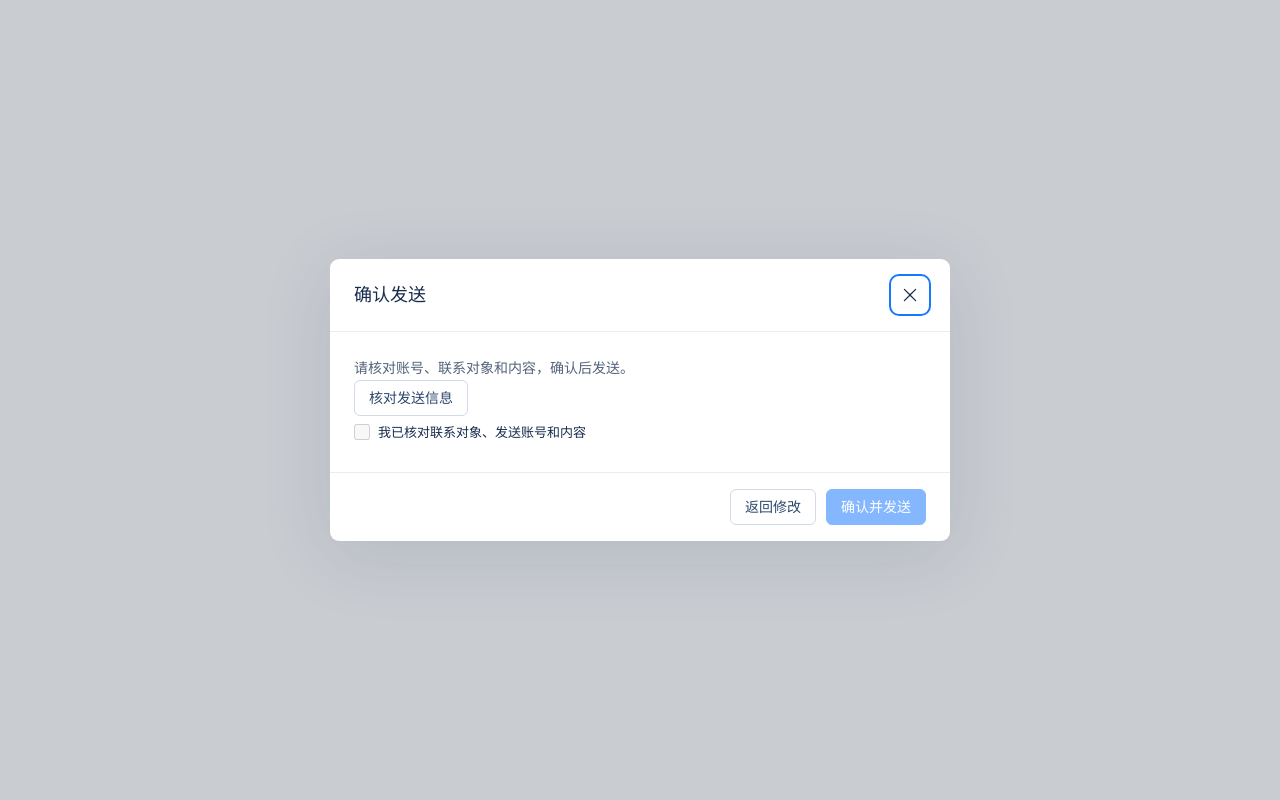
Scenario: blocks CONFIRM when durable storage throw fails
Click the button "核对发送信息" at (411, 398), box [354,380,468,416]
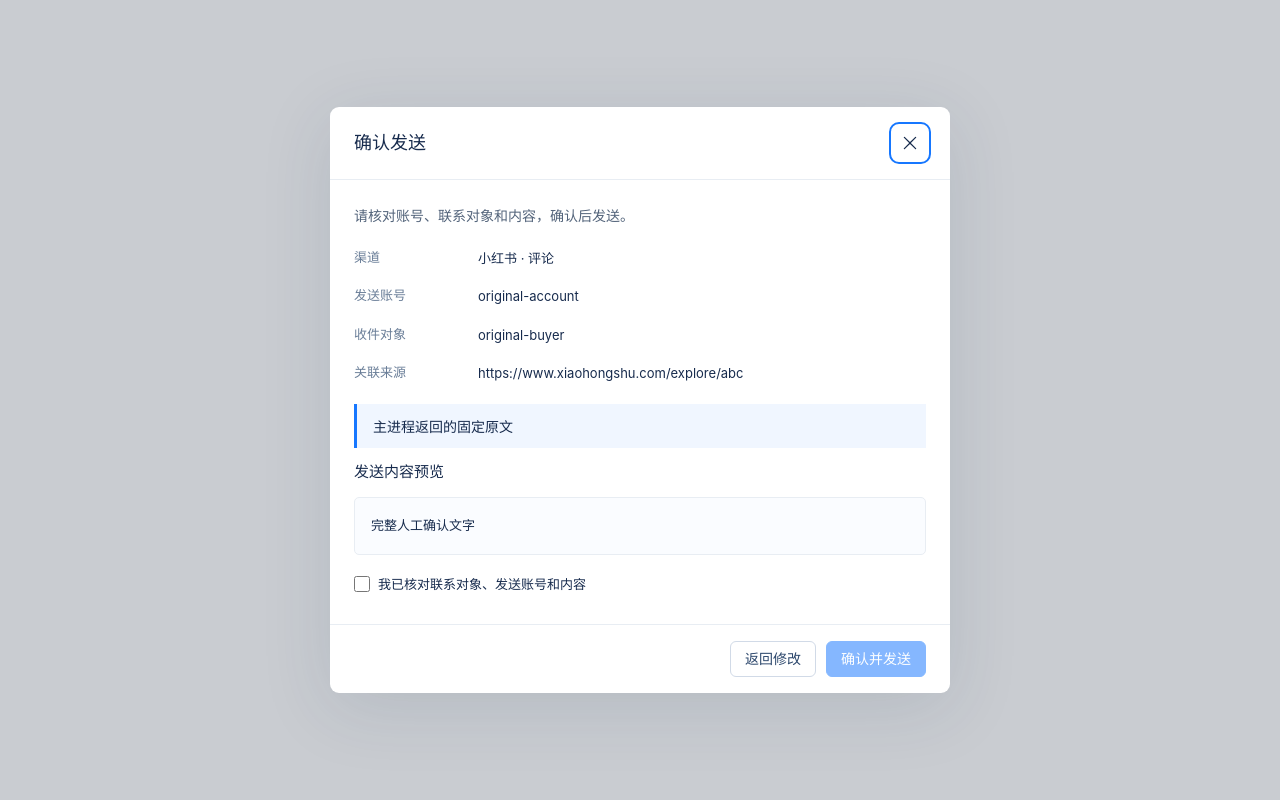
Now the text "主进程返回的固定原文" is shown, box [354,404,926,448]
Click the checkbox labelled "我已核对联系对象、发送账号和内容" at (362, 584), box [354,576,370,592]
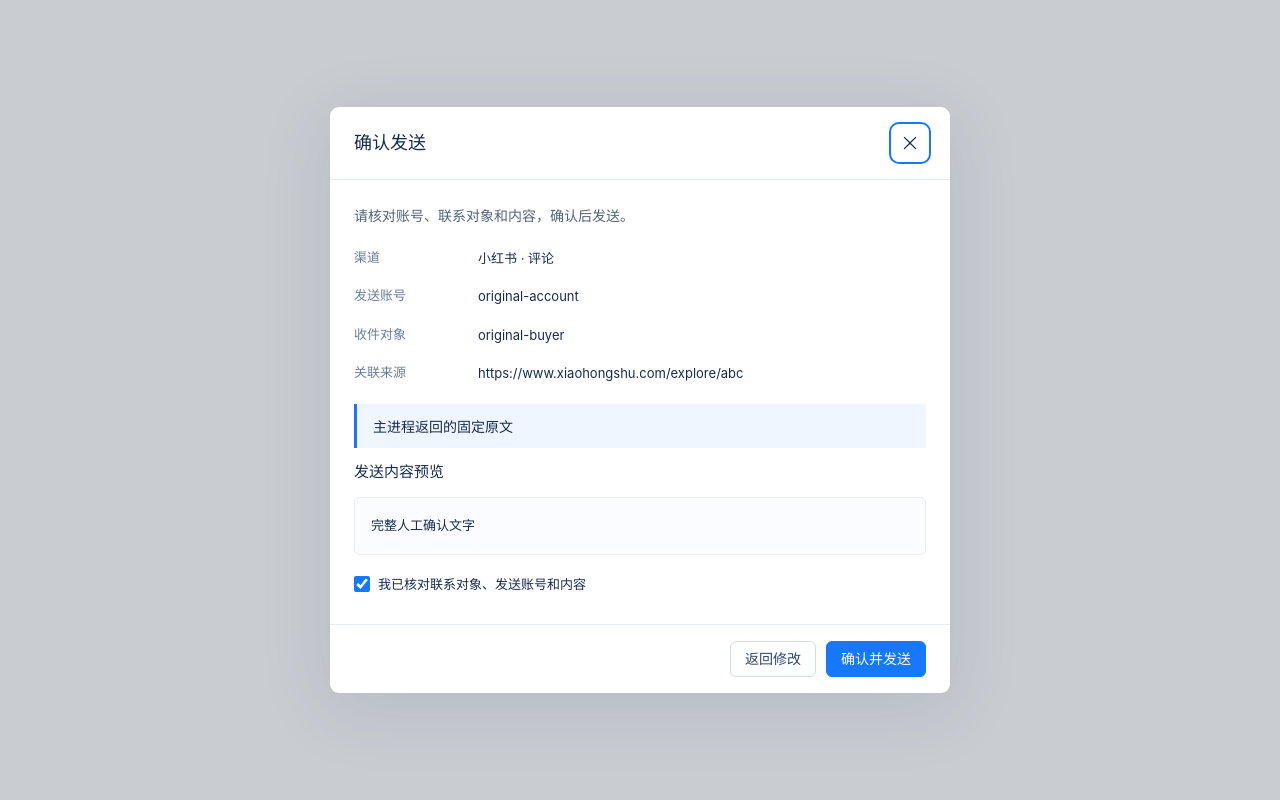
Click the button "确认并发送" at (876, 659), box [826,641,926,677]
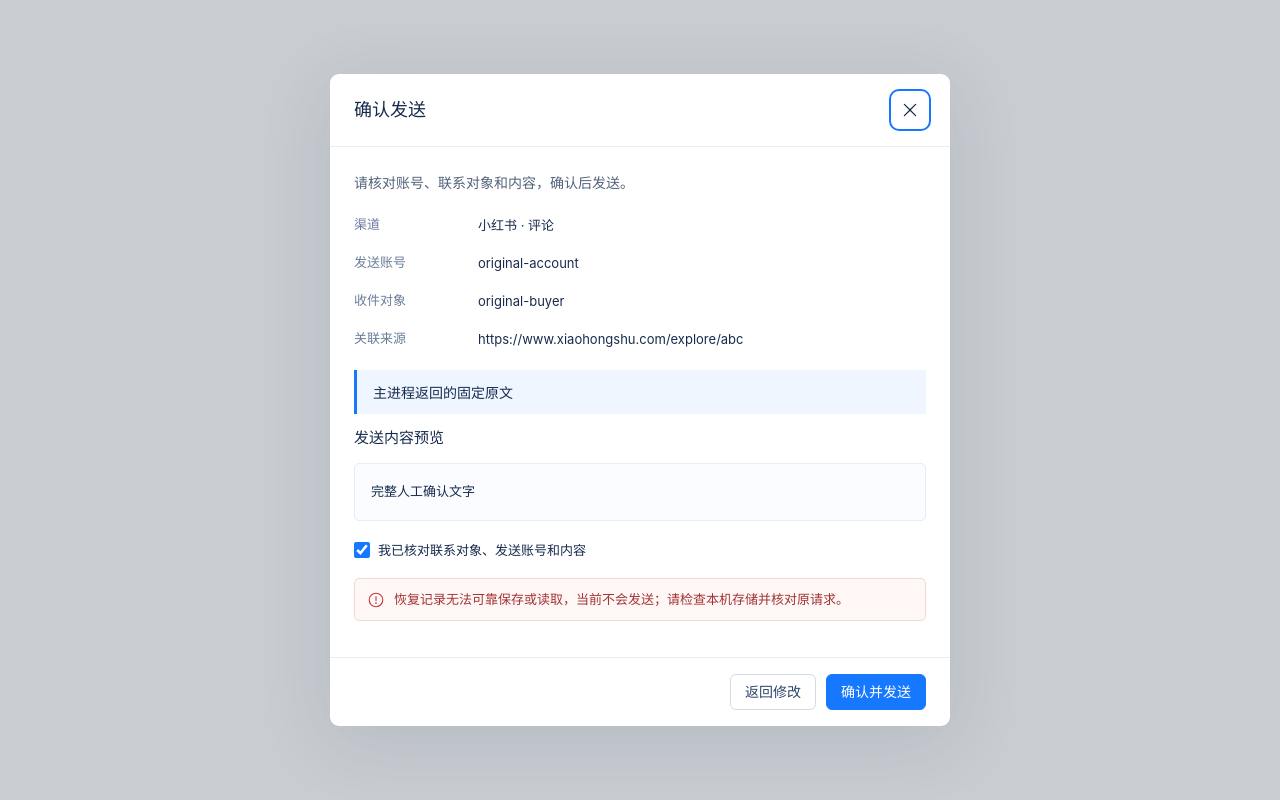
Now the text "恢复记录无法可靠保存或读取，当前不会发送；请检查本机存储并核对原请求。" is shown, box [394,589,913,610]
